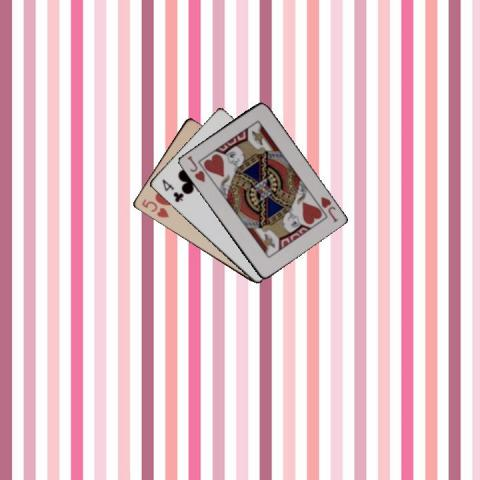4c: (158, 176, 184, 204)
5h: (139, 196, 170, 219)
Jh: (184, 153, 207, 184), (317, 193, 339, 224)
